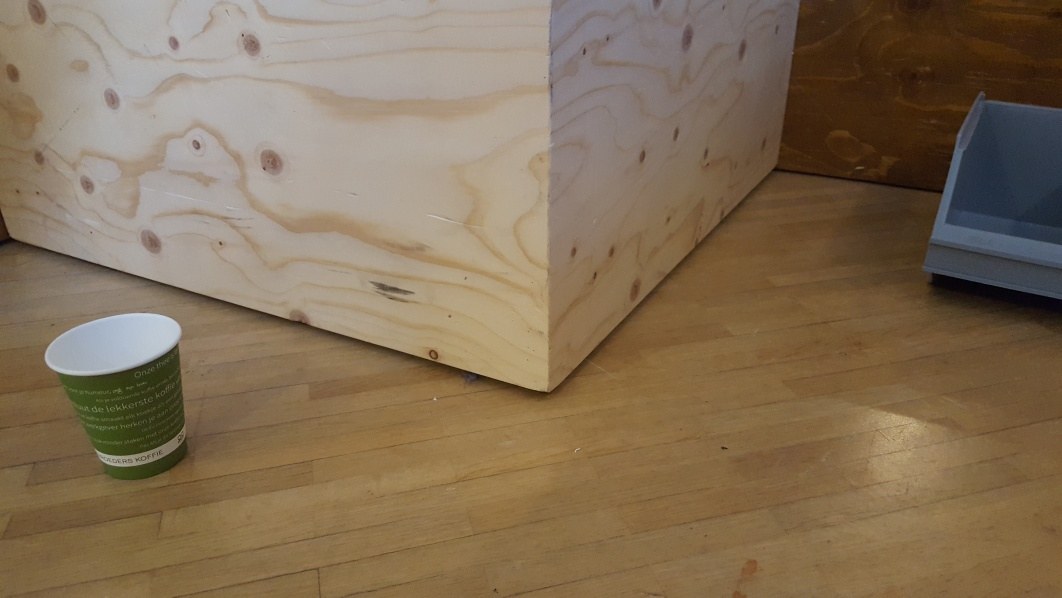cup: (43, 311, 192, 476)
